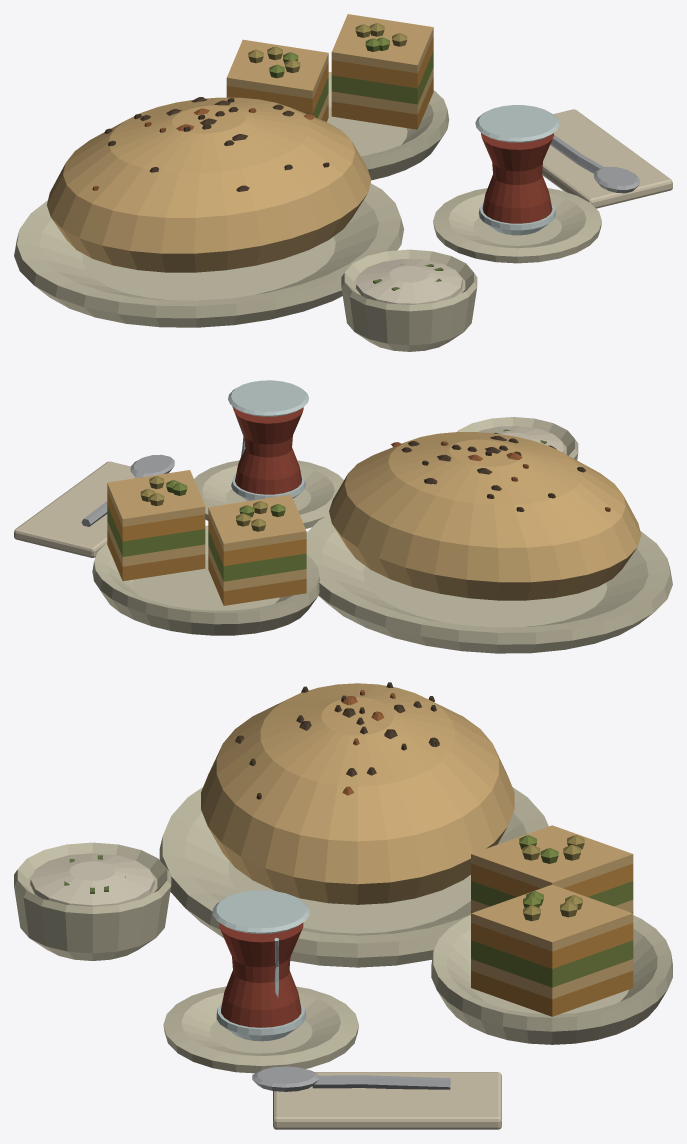
File: tea-table.glb
The picture shows the model from 3 angles, top to bottom: view 1: azimuth 30°, elevation 25°; view 2: azimuth 150°, elevation 25°; view 3: azimuth 270°, elevation 25°; orthographic projection. The views are drawn at different scales.
Visible parts, largest first — view 1: KervanTeaTable; view 2: KervanTeaTable; view 3: KervanTeaTable.
Part boxes in pixels (x1=…): KervanTeaTable: x1=14, y1=14, x2=672, y2=351; KervanTeaTable: x1=14, y1=380, x2=672, y2=653; KervanTeaTable: x1=14, y1=682, x2=672, y2=1129.
Bounding box in the file's own units: 0.627 × 0.154 × 0.5119.
